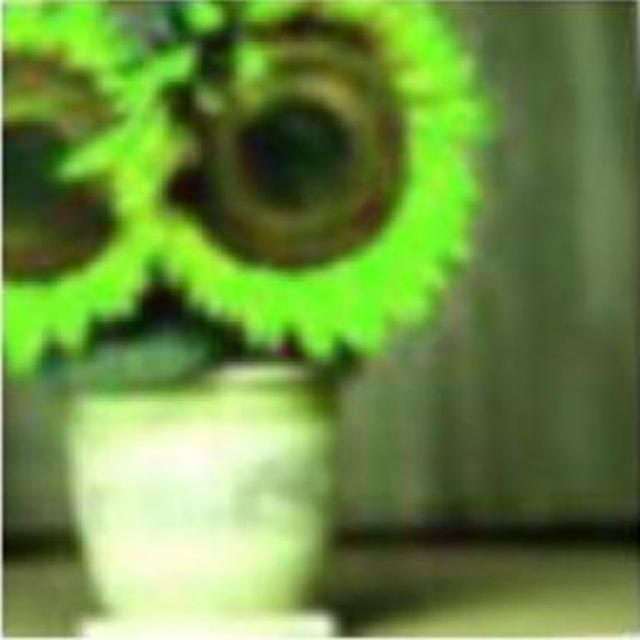sunflower: (123, 0, 470, 352)
